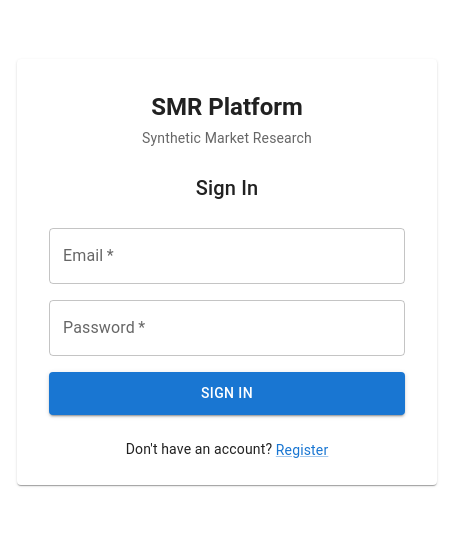
Test: LoginPage › switches to register mode
Note: Find the Register link/button and click it
Click the button "Register" at (302, 450), box [276,440,328,460]
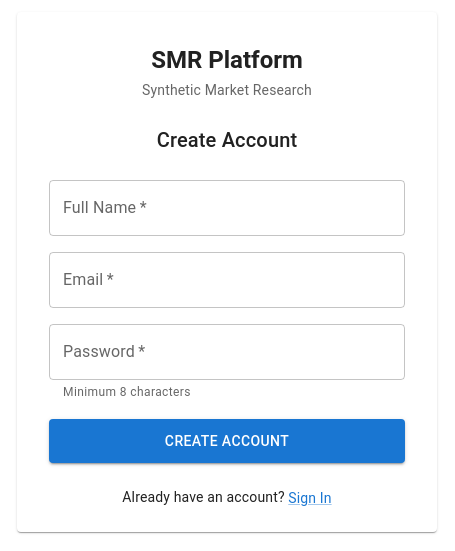
expect the heading "Create Account" is shown: met, box [157,128,297,152]
expect the field labelled "Full Name *" is shown: met, box [49,180,405,236]
